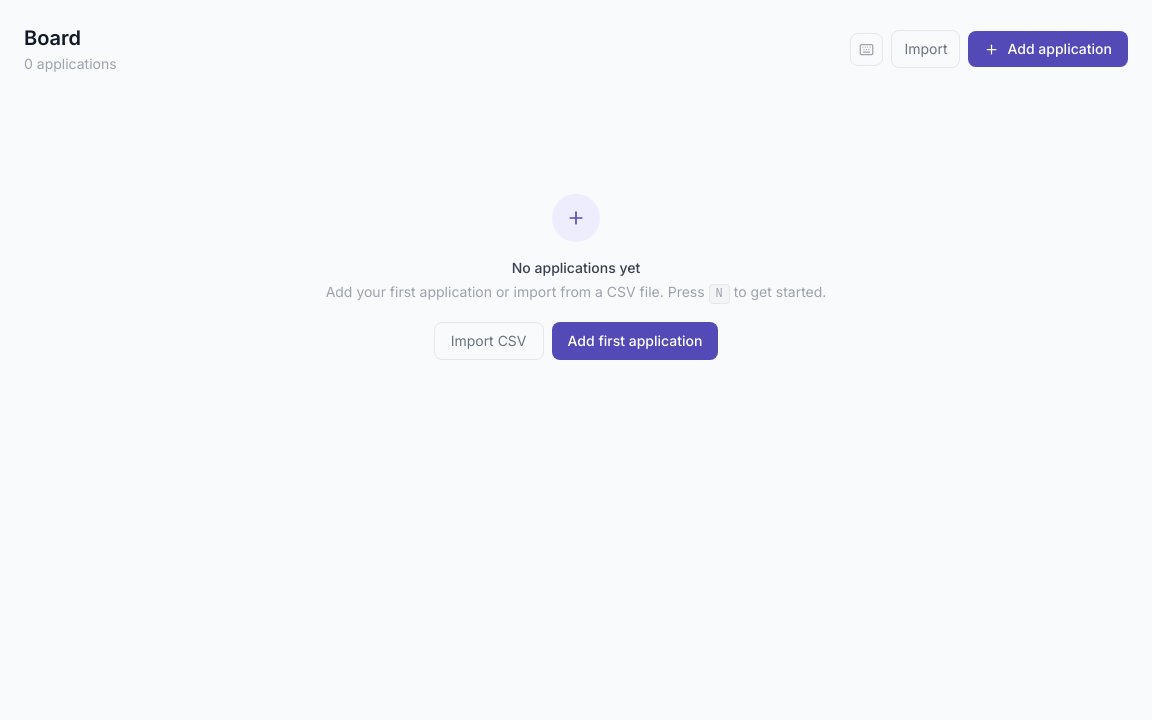
KanbanBoard › shows add application modal when button is clicked
The width and height of the screenshot is (1152, 720).
Click the button "Add first application" at [635, 341], box [552,322,718,360]
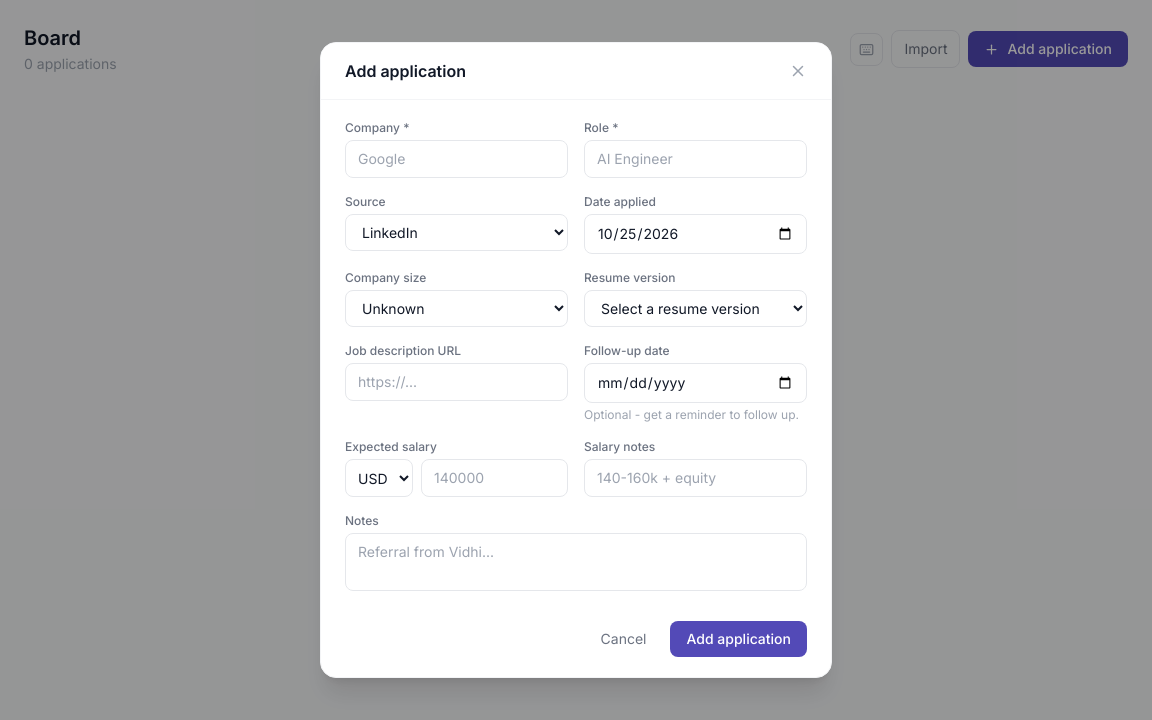
Expected: the field with placeholder "Google" is shown, [345,140,568,178]
